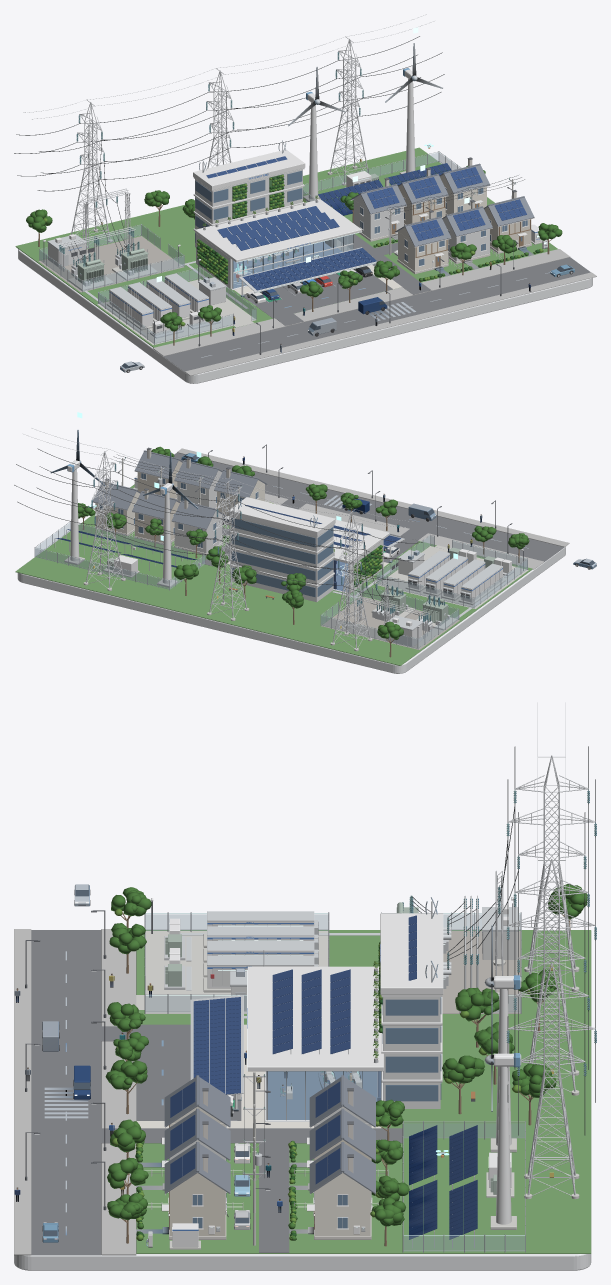
The model's file is smart_utility.glb.
3 renders of one model, top to bottom at view 1: azimuth 30°, elevation 25°; view 2: azimuth 150°, elevation 25°; view 3: azimuth 270°, elevation 25°, orthographic. The views are drawn at different scales.
Visible parts, largest first — view 1: bake-static_site, bake-static_building, vbake-static_grid, vbake-static_site, bake-hot-microgrid, bake-hot-energy-storage, bake-hot-ami, glass-static_site-glass, vbake-hot-microgrid, vbake-hot-ami, vbake-static_building, vbake-hot-ev-integration (+8 smaller); view 2: bake-static_site, vbake-static_grid, bake-static_building, vbake-static_site, bake-hot-ami, glass-static_site-glass, bake-hot-energy-storage, bake-hot-microgrid, bake-hot-renewable-energy, glass-static_grid-glass, bake-static_grid, vbake-static_homes (+6 smaller); view 3: bake-static_site, bake-static_building, vbake-static_grid, vbake-static_site, bake-hot-microgrid, bake-hot-energy-storage, bake-hot-ami, vbake-hot-renewable-energy, vbake-static_homes, glass-static_site-glass, bake-hot-renewable-energy, vbake-hot-ev-integration (+7 smaller).
Boxes of the visible parts, x1,y1,x2,y2 form: bake-static_site: [15, 147, 596, 383]; bake-static_building: [193, 149, 361, 290]; vbake-static_grid: [14, 14, 444, 292]; vbake-static_site: [26, 151, 562, 357]; bake-hot-microgrid: [394, 191, 542, 274]; bake-hot-energy-storage: [106, 273, 226, 338]; bake-hot-ami: [350, 159, 489, 241]; glass-static_site-glass: [98, 152, 459, 343]; vbake-hot-microgrid: [395, 190, 547, 270]; vbake-hot-ami: [350, 157, 490, 238]; vbake-static_building: [196, 142, 353, 288]; vbake-hot-ev-integration: [240, 248, 376, 303]; bake-static_site: [15, 448, 569, 673]; vbake-static_grid: [14, 428, 459, 651]; bake-static_building: [228, 497, 389, 602]; vbake-static_site: [34, 444, 529, 657]; bake-hot-ami: [92, 477, 225, 555]; glass-static_site-glass: [35, 522, 527, 607]; bake-hot-energy-storage: [397, 547, 513, 604]; bake-hot-microgrid: [133, 449, 267, 525]; bake-hot-renewable-energy: [64, 460, 177, 587]; glass-static_grid-glass: [321, 586, 458, 648]; bake-static_grid: [371, 590, 457, 646]; vbake-static_homes: [78, 454, 273, 558]; bake-static_site: [14, 929, 591, 1270]; bake-static_building: [247, 913, 443, 1121]; vbake-static_grid: [381, 702, 596, 1199]; vbake-static_site: [25, 884, 587, 1252]; bake-hot-microgrid: [164, 1077, 249, 1249]; bake-hot-energy-storage: [164, 911, 314, 1010]; bake-hot-ami: [253, 1077, 375, 1239]; vbake-hot-renewable-energy: [409, 975, 520, 1248]; vbake-static_homes: [135, 1074, 409, 1246]; glass-static_site-glass: [146, 914, 524, 1251]; bake-hot-renewable-energy: [486, 976, 521, 1229]; vbake-hot-ev-integration: [193, 997, 241, 1113].
Size of the model in its own units: 98.21 by 33.55 by 66.66.
